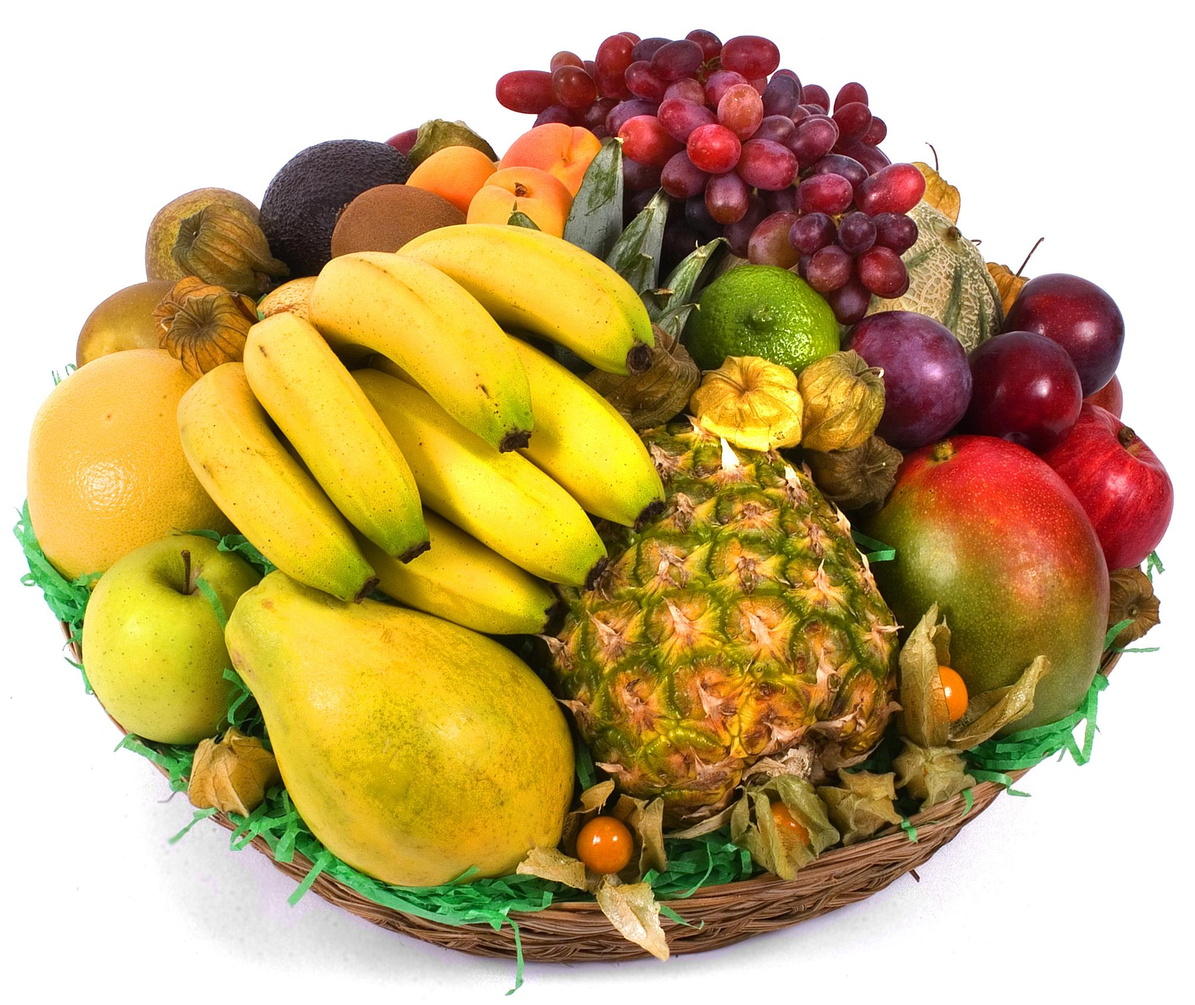chuoi: (249, 253, 537, 560)
